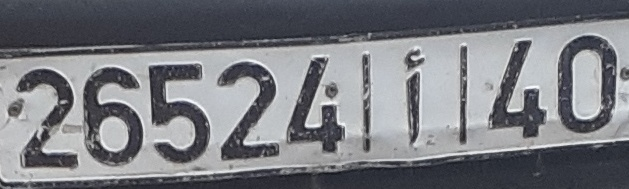0: (554, 28, 624, 139)
2: (211, 56, 284, 161), (9, 63, 78, 171)
4: (477, 38, 551, 139), (284, 52, 353, 160)
5: (145, 54, 213, 167)
6: (80, 59, 148, 170)
a: (392, 43, 431, 150)
